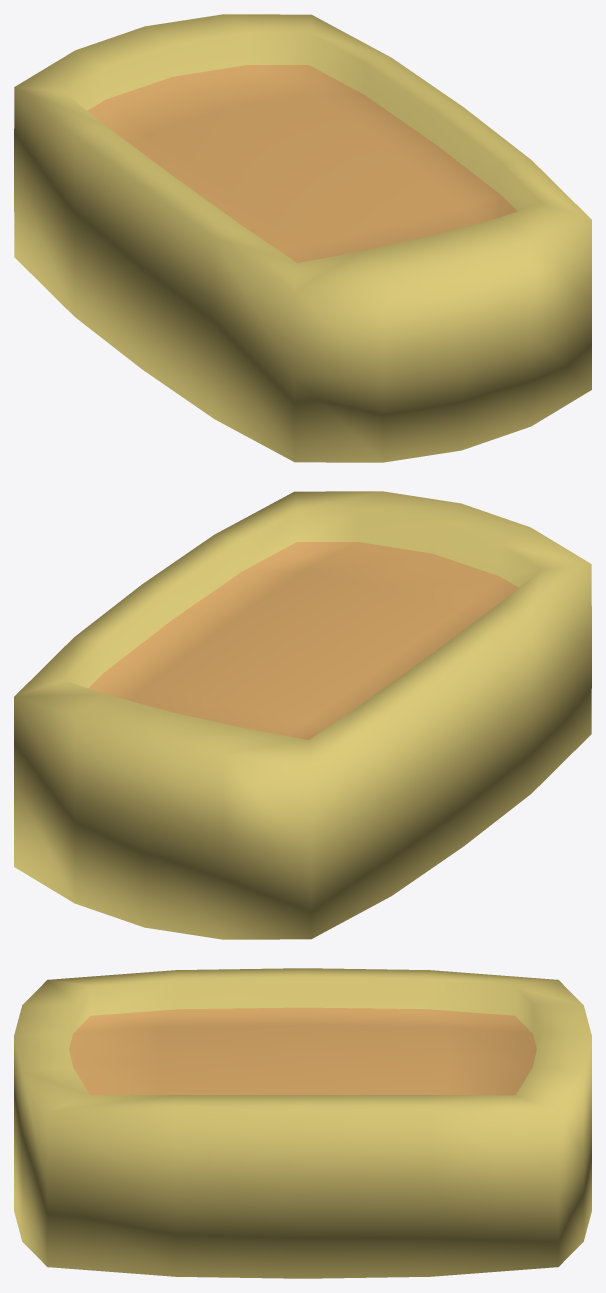
The model's file is Soap.fbx.
3 views of the same model, one above another, from view 1: azimuth 30°, elevation 25°; view 2: azimuth 150°, elevation 25°; view 3: azimuth 270°, elevation 25° (orthographic). The views are drawn at different scales.
Parts seen in each view (by area): view 1: Soap; view 2: Soap; view 3: Soap.
Boxes of the visible parts, x1,y1,x2,y2 form: Soap: (14, 14, 591, 462); Soap: (14, 491, 591, 939); Soap: (14, 968, 591, 1278).
Bounding box in the file's own units: 1.33 × 0.7747 × 2.26.
